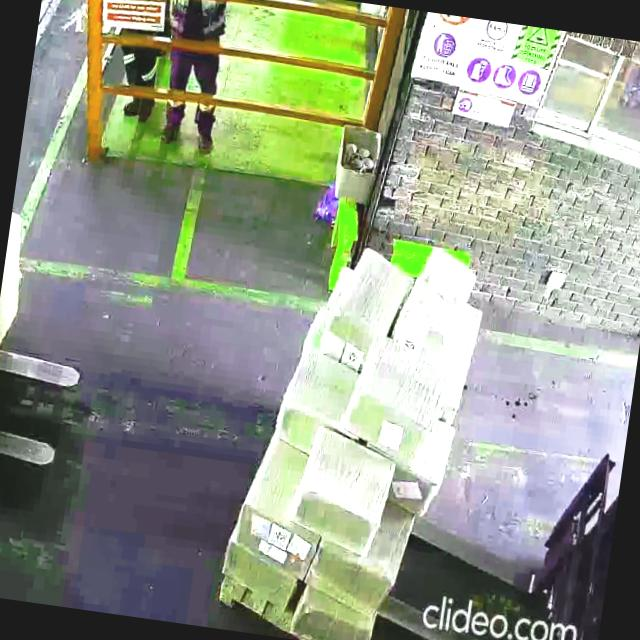Box: (348, 336, 452, 454), (292, 433, 396, 551), (391, 242, 486, 356), (281, 344, 357, 448), (308, 542, 400, 622), (337, 246, 402, 350), (230, 498, 320, 572), (214, 538, 296, 618), (293, 593, 372, 640)
